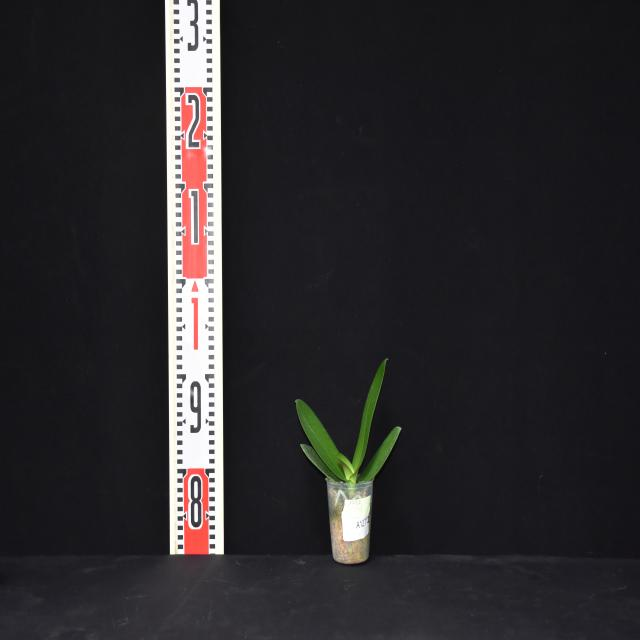leaf: (352, 358, 387, 482), (296, 399, 346, 481), (355, 427, 402, 484), (300, 444, 345, 483), (336, 452, 354, 480)
